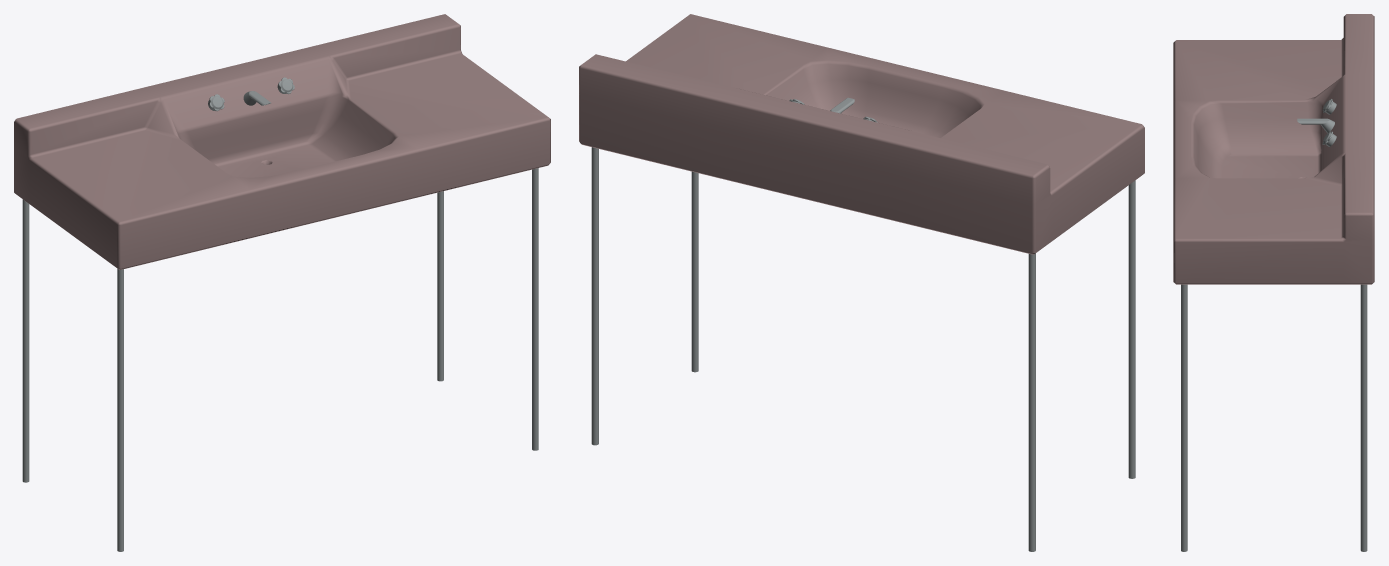
Rendered from sinkbath.fbx.
3 renders of one model, left to right at view 1: azimuth 30°, elevation 25°; view 2: azimuth 150°, elevation 25°; view 3: azimuth 270°, elevation 25°, orthographic. The views are drawn at different scales.
Parts seen in each view (by area): view 1: sink; view 2: sink; view 3: sink.
Boxes of the visible parts, bbox=[...] form: sink: bbox=[14, 14, 550, 551]; sink: bbox=[579, 14, 1144, 551]; sink: bbox=[1173, 14, 1374, 551].
Bounding box in the file's own units: 130 × 54.94 × 103.
